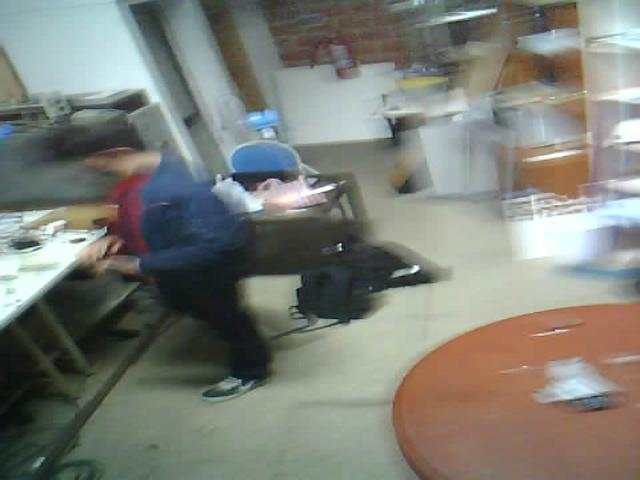person: (28, 106, 278, 417)
